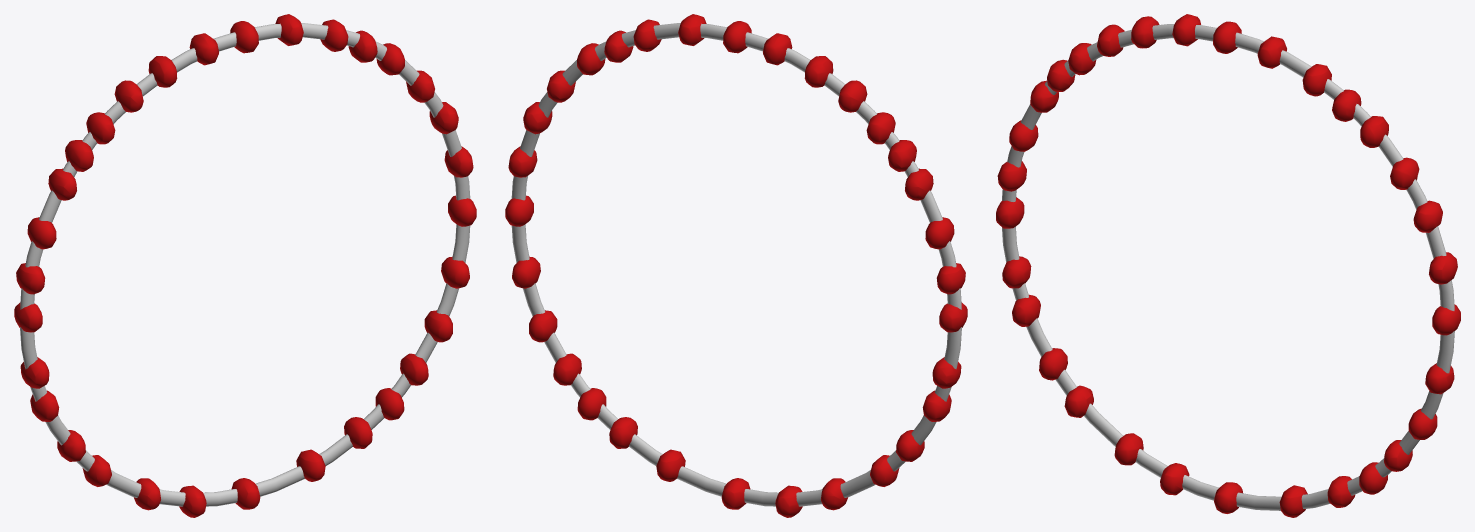
3 views of the same model, side by side, from view 1: azimuth 30°, elevation 25°; view 2: azimuth 150°, elevation 25°; view 3: azimuth 330°, elevation 25° (orthographic).
Parts seen in each view (by area): view 1: Electron_Mball, Ring_Torus; view 2: Electron_Mball, Ring_Torus; view 3: Electron_Mball, Ring_Torus.
Part boxes in pixels (x1=…): Electron_Mball: x1=14, y1=14, x2=476, y2=517; Ring_Torus: x1=20, y1=23, x2=470, y2=506; Electron_Mball: x1=505, y1=14, x2=967, y2=517; Ring_Torus: x1=511, y1=23, x2=961, y2=506; Electron_Mball: x1=996, y1=14, x2=1460, y2=517; Ring_Torus: x1=1002, y1=24, x2=1454, y2=510.
Size of the model in its own units: 2.91 by 2.96 by 0.2139.
